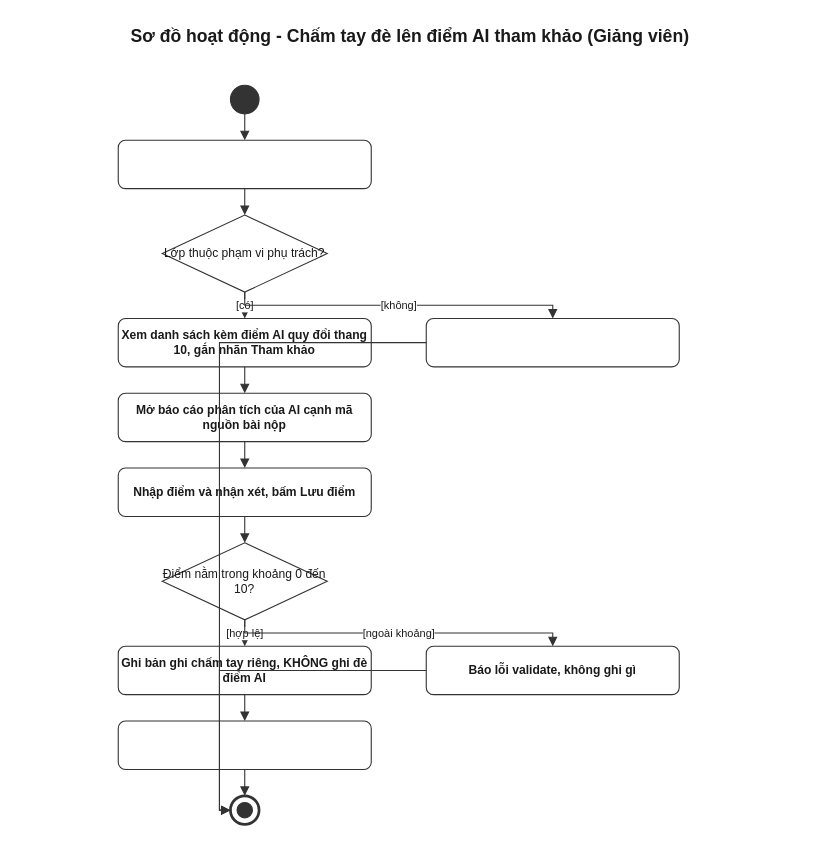
The diagram is 818 pixels wide and 845 high, and some of its shapes have lost their labels. The shapes that lost their labels are listed below. From the top down, each one's box as (x1, y1, x2, y2) in pixels, then its label:
(117, 139, 371, 189): Mở tab Chờ chấm của một lớp
(425, 317, 679, 367): Chặn ở tầng ứng dụng, chỉ thấy bài nộp của lớp mình
(117, 720, 371, 769): Ghi Nhật ký hệ thống, chuyển bài sang tab Đã chấm
